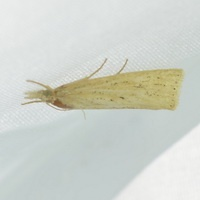insect: (22, 58, 183, 109)
